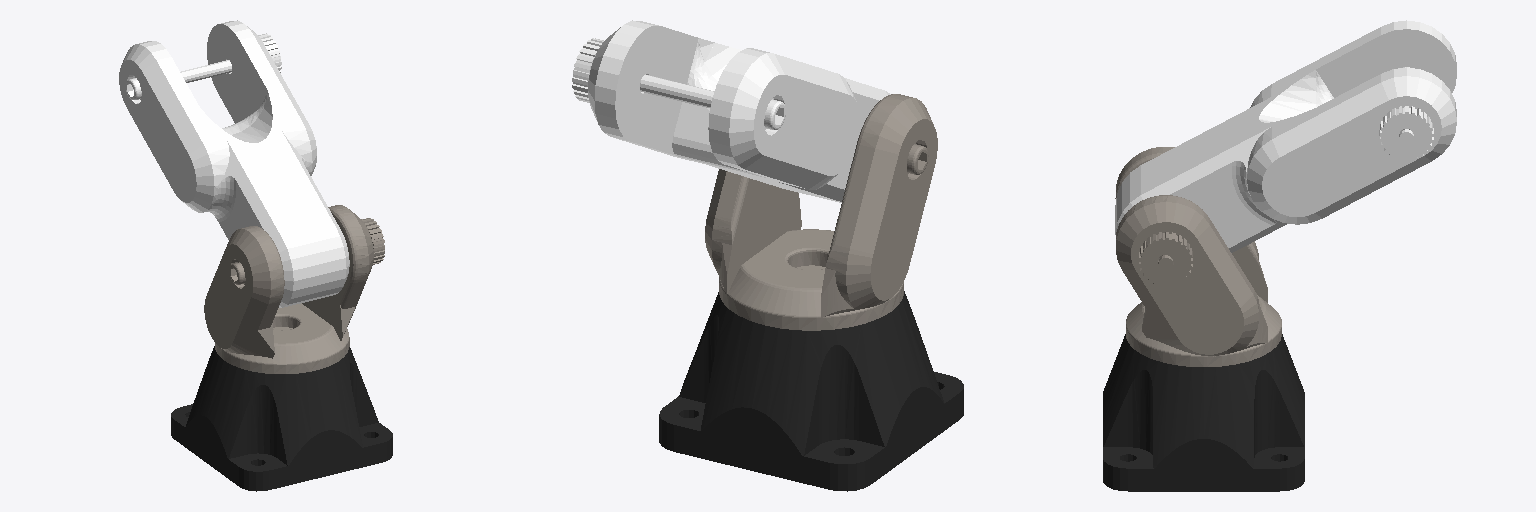
robot.urdf — magnetic_robot:
<?xml version="1.0" encoding="utf-8"?>
<!-- This URDF was automatically created by SolidWorks to URDF Exporter! Originally created by [author] ([email redacted]) 
     Commit Version: 1.5.1-0-g916b5db  Build Version: 1.5.7152.31018
     For more information, please see http://wiki.ros.org/sw_urdf_exporter -->
<robot  xmlns:xacro="http://www.ros.org/wiki/xacro" name="magnetic_robot">
  <link
    name="base_link">
    <inertial>
      <origin
        xyz="-5.57014653655014E-08 -1.64017849302311E-09 0.0110503085439139"
        rpy="0 0 0" />
      <mass
        value="1.8830632182665" />
      <inertia
        ixx="0.01"
        ixy="0.001"
        ixz="0.001"
        iyy="2.96212096421729E-04"
        iyz="0.01"
        izz="3.9033000095211E-04" />
    </inertial>
    <visual>
      <origin
        xyz="0 0 0"
        rpy="0 0 0" />
      <geometry>
        <mesh
          filename="package://magnetic_robot/meshes/base_link.STL" />
      </geometry>
      <material
        name="">
        <color
          rgba="0.2 0.2 0.2 1" />
      </material>
    </visual>
    <collision>
      <origin
        xyz="0 0 0"
        rpy="0 0 0" />
      <geometry>
        <mesh
          filename="package://magnetic_robot/meshes/base_link.STL" />
      </geometry>
    </collision>
  </link>

  <gazebo reference="base_link">
    <mu1>200</mu1>
    <mu2>200</mu2>
    <kp>100000000</kp>
    <kd>10</kd>
    <material>Gazebo/Gray</material>
  </gazebo>  

  <link
    name="link_1">
    <inertial>
      <origin
        xyz="8.68581727226907E-05 -0.00235577044185772 0.0132126846360901"
        rpy="0 0 0" />
      <mass
        value="0.0912441845049387" />
      <inertia
        ixx="1.34794669597026E-05"
        ixy="4.26135810925192E-11"
        ixz="-1.07071321881178E-10"
        iyy="1.99127119696254E-05"
        iyz="2.53942240626904E-06"
        izz="1.57031342244081E-05" />
    </inertial>
    <visual>
      <origin
        xyz="0 0 0"
        rpy="0 0 0" />
      <geometry>
        <mesh
          filename="package://magnetic_robot/meshes/link_1.STL" />
      </geometry>
      <material
        name="">
        <color
          rgba="0.647058823529412 0.619607843137255 0.588235294117647 1" />
      </material>
    </visual>
    <collision>
      <origin
        xyz="0 0 0"
        rpy="0 0 0" />
      <geometry>
        <mesh
          filename="package://magnetic_robot/meshes/link_1.STL" />
      </geometry>
    </collision>
  </link>

  <gazebo reference="link_1">
    <selfCollide>true</selfCollide>
    <mu1>200</mu1>
    <mu2>200</mu2>
    <kp>1000000</kp>
    <kd>0.1</kd>
    <material>Gazebo/Gray</material>
  </gazebo>  

  <joint
    name="joint_base_1"
    type="continuous">
    <origin
      xyz="0 0 0.025"
      rpy="0 0 0" />
    <parent
      link="base_link" />
    <child
      link="link_1" />
    <axis
      xyz="0 0 1" />
    <limit
      lower="-3.1416"
      upper="3.1416"
      effort="1000"
      velocity="10" />
  </joint>

  <link
    name="link_2">
    <inertial>
      <origin
        xyz="-0.013135555797142 0.0231580521879061 -0.0087311072192781"
        rpy="0 0 0" />
      <mass
        value="0.059523127189033" />
      <inertia
        ixx="9.7062317916233E-06"
        ixy="3.75868735899246E-06"
        ixz="9.78467603078216E-12"
        iyy="5.23021359295035E-06"
        iyz="2.43792885803872E-12"
        izz="1.043876410738E-05" />
    </inertial>
    <visual>
      <origin
        xyz="0 0 0"
        rpy="0 0 0" />
      <geometry>
        <mesh
          filename="package://magnetic_robot/meshes/link_2.STL" />
      </geometry>
      <material
        name="">
        <color
          rgba="1 1 1 1" />
      </material>
    </visual>
    <collision>
      <origin
        xyz="0 0 0"
        rpy="0 0 0" />
      <geometry>
        <mesh
          filename="package://magnetic_robot/meshes/link_2.STL" />
      </geometry>
    </collision>
  </link>

  <gazebo reference="link_2">
    <selfCollide>true</selfCollide>
    <mu1>200</mu1>
    <mu2>200</mu2>
    <kp>1000000</kp>
    <kd>0.1</kd>
    <material>Gazebo/Gray</material>
  </gazebo>  

  <joint
    name="joint_12"
    type="revolute">
    <origin
      xyz="0.009 -0.0075 0.025"
      rpy="0 1.5707963267949 0" />
    <parent
      link="link_1" />
    <child
      link="link_2" />
    <axis
      xyz="0 0 1" />
    <limit
      lower="-3.1416"
      upper="3.1416"
      effort="1000"
      velocity="19" />
  </joint>
  <!--link
    name="link_3">
    <inertial>
      <origin
        xyz="-0.0130925655663325 -0.0125488665688617 -0.00876095486401757"
        rpy="0 0 0" />
      <mass
        value="0.0167127175588588" />
      <inertia
        ixx="3.19071360572348E-06"
        ixy="-1.92500426604351E-06"
        ixz="-4.57854995746172E-12"
        iyy="2.33463820007968E-06"
        iyz="-1.43136381354954E-12"
        izz="4.69810708217055E-06" />
    </inertial>
    <visual>
      <origin
        xyz="0 0 0"
        rpy="0 0 0" />
      <geometry>
        <mesh
          filename="package://magnetic_robot/meshes/link_3.STL" />
      </geometry>
      <material
        name="">
        <color
          rgba="1 1 1 1" />
      </material>
    </visual>
    <collision>
      <origin
        xyz="0 0 0"
        rpy="0 0 0" />
      <geometry>
        <mesh
          filename="package://magnetic_robot/meshes/link_3.STL" />
      </geometry>
    </collision>
  </link>

  <gazebo reference="link_3">
    <selfCollide>true</selfCollide>
    <mu1>200</mu1>
    <mu2>200</mu2>
    <kp>1000000</kp>
    <kd>0.1</kd>
    <material>Gazebo/Gray</material>
  </gazebo>  

  <joint
    name="joint_23"
    type="revolute">
    <origin
      xyz="-0.0275 0.047631 0"
      rpy="0 0 0" />
    <parent
      link="link_2" />
    <child
      link="link_3" />
    <axis
      xyz="0 0 1" />
    <limit
      lower="-3.1416"
      upper="3.1416"
      effort="1000"
      velocity="10" />
  </joint>

  <link
    name="link_4">
    <inertial>
      <origin
        xyz="-0.00094099689764271 -0.0107556857698121 -0.00399997580729407"
        rpy="0 0 0" />
      <mass
        value="0.00201825548540404" />
      <inertia
        ixx="5.89781128180612E-08"
        ixy="-2.86315870000121E-09"
        ixz="-1.00493667739962E-14"
        iyy="2.65031153578674E-08"
        iyz="-9.52110747189026E-14"
        izz="5.93208326449624E-08" />
    </inertial>
    <visual>
      <origin
        xyz="0 0 0"
        rpy="0 0 0" />
      <geometry>
        <mesh
          filename="package://magnetic_robot/meshes/link_4.STL" />
      </geometry>
      <material
        name="">
        <color
          rgba="1 1 1 1" />
      </material>
    </visual>
    <collision>
      <origin
        xyz="0 0 0"
        rpy="0 0 0" />
      <geometry>
        <mesh
          filename="package://magnetic_robot/meshes/link_4.STL" />
      </geometry>
    </collision>
  </link>

  <gazebo reference="link_4">
    <selfCollide>true</selfCollide>
    <mu1>200</mu1>
    <mu2>200</mu2>
    <kp>1000000</kp>
    <kd>0.1</kd>
    <material>Gazebo/Gray</material>
  </gazebo>  

  <joint
    name="joint_34"
    type="revolute">
    <origin
      xyz="-0.030931 -0.036329 -0.005"
      rpy="0 0 0" />
    <parent
      link="link_3" />
    <child
      link="link_4" />
    <axis
      xyz="0 0 1" />
    <limit
      lower="-3.1416"
      upper="3.1416"
      effort="1000"
      velocity="10" />
  </joint>
  <link
    name="link_5">
    <inertial>
      <origin
        xyz="-3.3570849344855E-07 -0.0010132605222575 0.0221547651415002"
        rpy="0 0 0" />
      <mass
        value="0.000582788402747154" />
      <inertia
        ixx="1.22340432440526E-07"
        ixy="3.4644749291343E-13"
        ixz="-1.32119462585196E-12"
        iyy="1.23522113403962E-07"
        iyz="4.5113116911049E-09"
        izz="4.6412810957294E-07" />
    </inertial>
    <visual>
      <origin
        xyz="0 0 0"
        rpy="0 0 0" />
      <geometry>
        <mesh
          filename="package://magnetic_robot/meshes/link_5.STL" />
      </geometry>
      <material
        name="">
        <color
          rgba="0.898039215686275 0.917647058823529 0.929411764705882 1" />
      </material>
    </visual>
    <collision>
      <origin
        xyz="0 0 0"
        rpy="0 0 0" />
      <geometry>
        <mesh
          filename="package://magnetic_robot/meshes/link_5.STL" />
      </geometry>
    </collision>
  </link>

  <gazebo reference="link_5">
    <selfCollide>true</selfCollide>
    <mu1>2000</mu1>
    <mu2>2000</mu2>
    <kp>100000</kp>
    <kd>0.1</kd>
    <material>Gazebo/Gray</material>
  </gazebo>  

  <joint
    name="joint_45"
    type="continuous">
    <origin
      xyz="-0.0014816 -0.016935 -0.004"
      rpy="1.6581 -1.5708 0" />
    <parent
      link="link_4" />
    <child
      link="link_5" />
    <axis
      xyz="0 0 1" />
    <limit
      lower="-3.1416"
      upper="3.1416"
      effort="1000"
      velocity="10" />
  </joint>
  <link
    name="link_6">
    <inertial>
      <origin
        xyz="-0.00165060250118423 -0.000963134335252681 -0.00350018544178326"
        rpy="0 0 0" />
      <mass
        value="0.000328267824519601" />
      <inertia
        ixx="3.14748408996174E-08"
        ixy="3.23397330057597E-09"
        ixz="1.6258187546536E-13"
        iyy="2.24847608021575E-09"
        iyz="-9.59349277431484E-13"
        izz="3.04814390264029E-08" />
    </inertial>
    <visual>
      <origin
        xyz="0 0 0"
        rpy="0 0 0" />
      <geometry>
        <mesh
          filename="package://magnetic_robot/meshes/link_6.STL" />
      </geometry>
      <material
        name="">
        <color
          rgba="0.898039215686275 0.917647058823529 0.929411764705882 1" />
      </material>
    </visual>
    <collision>
      <origin
        xyz="0 0 0"
        rpy="0 0 0" />
      <geometry>
        <mesh
          filename="package://magnetic_robot/meshes/link_6.STL" />
      </geometry>
    </collision>
  </link>

  <gazebo reference="link_6">
    <selfCollide>true</selfCollide>
    <mu1>200</mu1>
    <mu2>200</mu2>
    <kp>1000000</kp>
    <kd>0.1</kd>
    <material>Gazebo/Gray</material>
  </gazebo>  

  <joint
    name="joint_56"
    type="revolute">
    <origin
      xyz="0.0035 0.0023938 0.030443"
      rpy="-1.5708 0.087266 -1.5708" />
    <parent
      link="link_5" />
    <child
      link="link_6" />
    <axis
      xyz="0 0 1" />
    <limit
      lower="0"
      upper="0"
      effort="1000"
      velocity="10" />
  </joint-->

  <!--gazebo>
    <plugin name="gazebo_ros_joint_state_publisher"
        filename="libgazebo_ros_joint_state_publisher.so">
        <update_rate>1000</update_rate>
        <joint_name>joint_base_1</joint_name>
        <joint_name>joint_12</joint_name>
        <joint_name>joint_23</joint_name>
        <joint_name>joint_34</joint_name>
        <joint_name>joint_45</joint_name>
        <joint_name>joint_56</joint_name>
    </plugin>
  </gazebo-->

  <!-- R2 Gazebo Joint config -->
  <ros2_control name="GazeboSystem" type="system">
    <hardware>
      <plugin>gazebo_ros2_control/GazeboSystem</plugin>
    </hardware>    
    <joint name="joint_base_1">
      <command_interface name="position">
        <param name="min">0</param>
        <param name="max">3.14159</param>
      </command_interface>
      <state_interface name="position"/>
      <state_interface name="velocity"/>
      <state_interface name="effort"/>
    </joint>

    <joint name="joint_12">
      <command_interface name="position">
        <param name="min">0</param>
        <param name="max">3.14159</param>
      </command_interface>
      <state_interface name="position"/>
      <state_interface name="velocity"/>
      <state_interface name="effort"/>
    </joint>

    <!--joint name="joint_23">
      <command_interface name="position">
        <param name="min">-3.14159</param>
        <param name="max">3.14159</param>
      </command_interface>
      <state_interface name="position"/>
      <state_interface name="velocity"/>
      <state_interface name="effort"/>
    </joint>

    <joint name="joint_34">
      <command_interface name="position">
        <param name="min">-3.14159</param>
        <param name="max">3.14159</param>
      </command_interface>
      <state_interface name="position"/>
      <state_interface name="velocity"/>
      <state_interface name="effort"/>
    </joint>

    <joint name="joint_45">
      <command_interface name="position">
        <param name="min">-3.14159</param>
        <param name="max">3.14159</param>
      </command_interface>
      <state_interface name="position"/>
      <state_interface name="velocity"/>
      <state_interface name="effort"/>
    </joint>

    <joint name="joint_56">
      <command_interface name="position">
        <param name="min">-3.14159</param>
        <param name="max">3.14159</param>
      </command_interface>
      <state_interface name="position"/>
      <state_interface name="velocity"/>
      <state_interface name="effort"/>
    </joint-->
  </ros2_control>


  <gazebo>
    <plugin filename="libgazebo_ros2_control.so" name="gazebo_ros2_control">
      <parameters>[local-path]/magnetic_arm/src/magnetic_robot/config/controller.yaml</parameters>
    </plugin>
  </gazebo>

</robot>

--- Render facts (derived) ---
The picture shows the robot from 3 angles, left to right: view 1: azimuth 30°, elevation 25°; view 2: azimuth 150°, elevation 25°; view 3: azimuth 270°, elevation 25°; orthographic projection.
Model magnetic_robot with 3 links and 2 joints (1 revolute, 1 continuous), rooted at base_link, posed all joints at 0.
Links seen in each view (by area): view 1: link_2, base_link, link_1; view 2: base_link, link_2, link_1; view 3: link_2, base_link, link_1.
Boxes of the visible links, left/top/right/bottom form: link_2: left=119, top=20, right=349, bottom=307; base_link: left=171, top=346, right=392, bottom=491; link_1: left=204, top=205, right=384, bottom=373; base_link: left=659, top=291, right=963, bottom=491; link_2: left=572, top=20, right=890, bottom=202; link_1: left=705, top=94, right=937, bottom=330; link_2: left=1115, top=20, right=1456, bottom=252; base_link: left=1103, top=334, right=1304, bottom=491; link_1: left=1115, top=147, right=1281, bottom=366.
Bounding box of the posed robot: 0.041 × 0.0701 × 0.0875 m (x, y, z).
3 mesh visuals loaded from 3 distinct referenced files (3 binary STL).